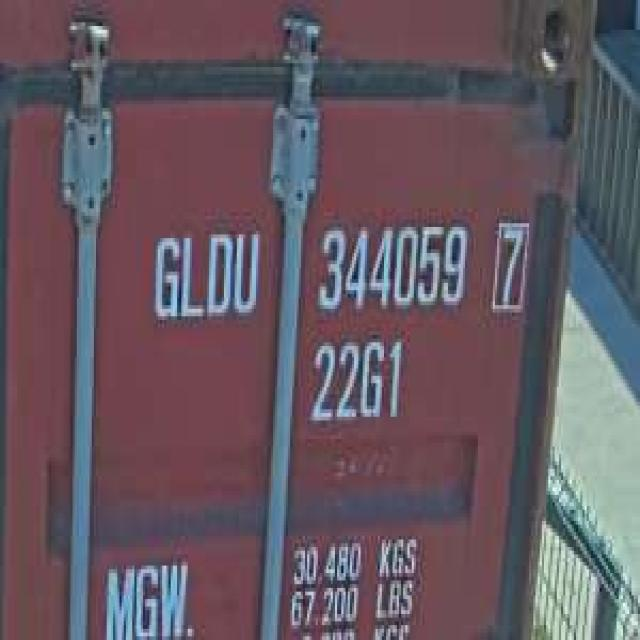dv: (486, 212, 532, 320)
owner: (145, 216, 262, 331)
serial: (309, 208, 472, 324)
size: (305, 331, 405, 432)
